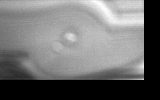cell: (60, 28, 81, 47), (48, 39, 65, 56)
